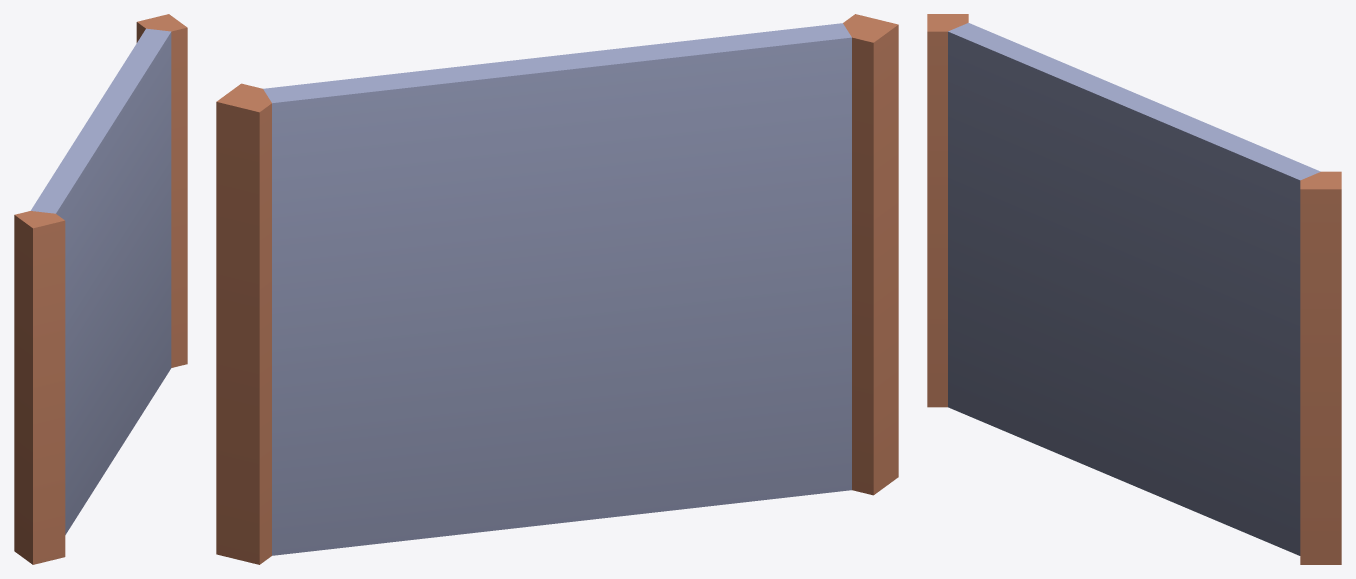
File: wall-kn-wall-diagonal.glb
3 views of the same model, side by side, from view 1: azimuth 30°, elevation 25°; view 2: azimuth 150°, elevation 25°; view 3: azimuth 270°, elevation 25° (orthographic). The views are drawn at different scales.
Parts seen in each view (by area): view 1: wall-diagonal; view 2: wall-diagonal; view 3: wall-diagonal.
Boxes of the visible parts, left/top/right/bottom form: wall-diagonal: left=14, top=14, right=187, bottom=564; wall-diagonal: left=216, top=14, right=898, bottom=564; wall-diagonal: left=927, top=14, right=1341, bottom=564.
Bounding box in the file's own units: 3 × 3 × 3.
1 material, 1 textured.
